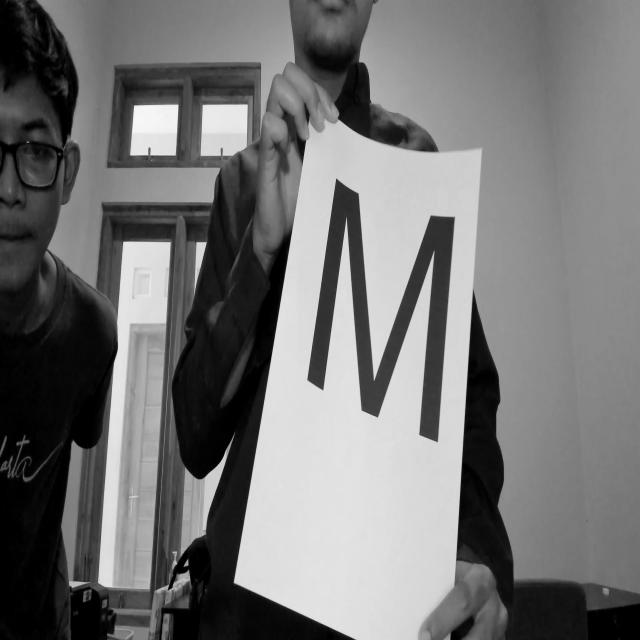m: (301, 166, 469, 471)
